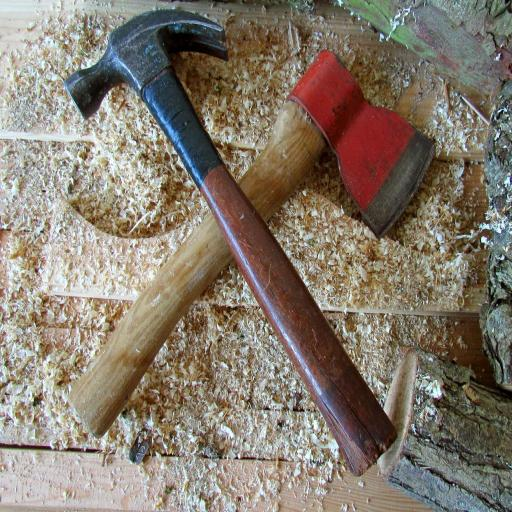Axe: (69, 42, 440, 436)
